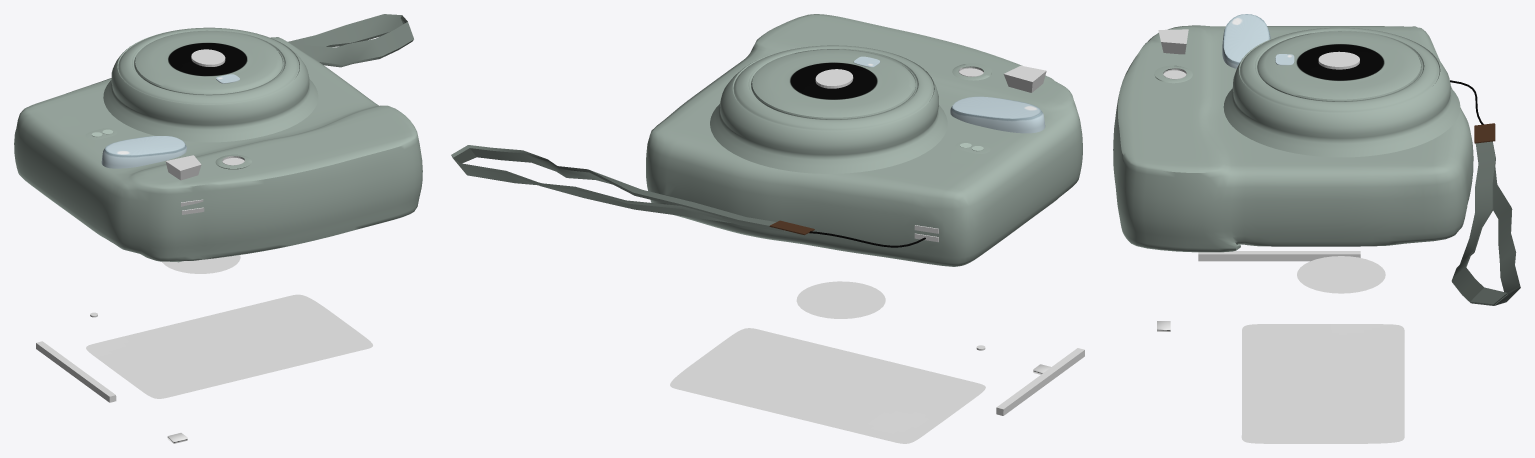
The model's file is camera.fbx.
The picture shows the model from 3 angles, left to right: view 1: azimuth 30°, elevation 25°; view 2: azimuth 150°, elevation 25°; view 3: azimuth 270°, elevation 25°; orthographic projection. The views are drawn at different scales.
Parts seen in each view (by area): view 1: Main, Main.001, Cube.002, Cylinder, Plane.001, Hole.002; view 2: Main, Main.001, Cylinder, Cube.002, Plane.001, Hole.002; view 3: Main, Main.001, Cylinder, Cube.002, Plane.001, Hole.002.
Part boxes in pixels (box(x1,y1,x2,y2)): Main: box(14, 14, 422, 262); Main.001: box(86, 294, 372, 398); Cube.002: box(36, 341, 116, 402); Cylinder: box(162, 255, 240, 273); Plane.001: box(165, 155, 201, 180); Hole.002: box(191, 49, 225, 66); Main: box(451, 14, 1082, 266); Main.001: box(670, 328, 985, 443); Cylinder: box(796, 281, 885, 318); Cube.002: box(996, 348, 1084, 415); Plane.001: box(1003, 65, 1046, 92); Hole.002: box(815, 69, 853, 88); Main: box(1113, 14, 1520, 305); Main.001: box(1241, 324, 1404, 443); Cylinder: box(1297, 256, 1385, 293); Cube.002: box(1198, 251, 1360, 261); Plane.001: box(1158, 29, 1188, 54); Hole.002: box(1318, 51, 1359, 69).
Bounding box in the file's own units: 108 × 71.06 × 79.98.
